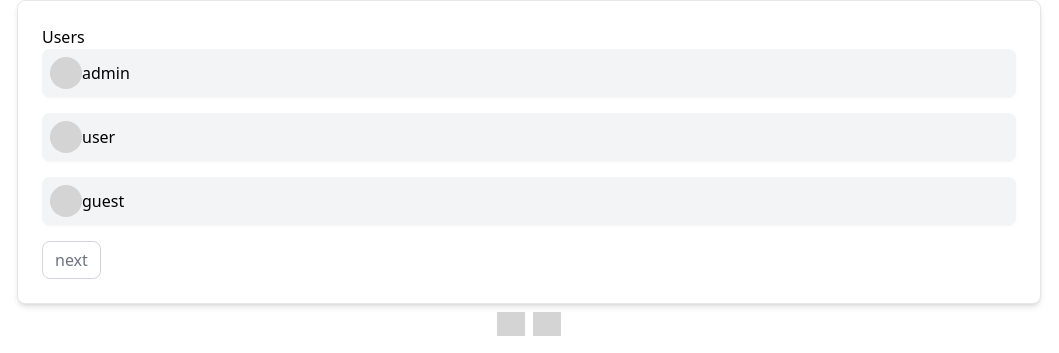
Test: UserList › interactions › should hide next page link at last page
This screenshot has width=1059, height=353.
Click the button "next": (71, 260) [42,241,101,279]
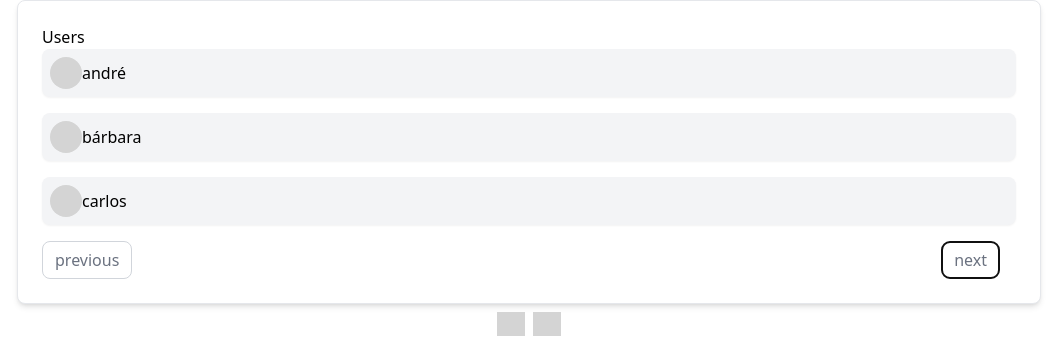
Click the button "next": (971, 260) [941,241,1000,279]
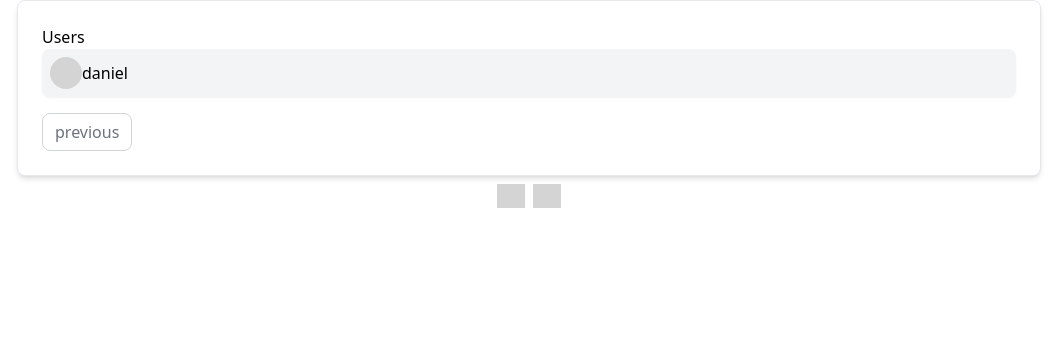
Expected: the list item "daniel" is shown, [42,49,1016,97]
Expected: the button "next" is gone
